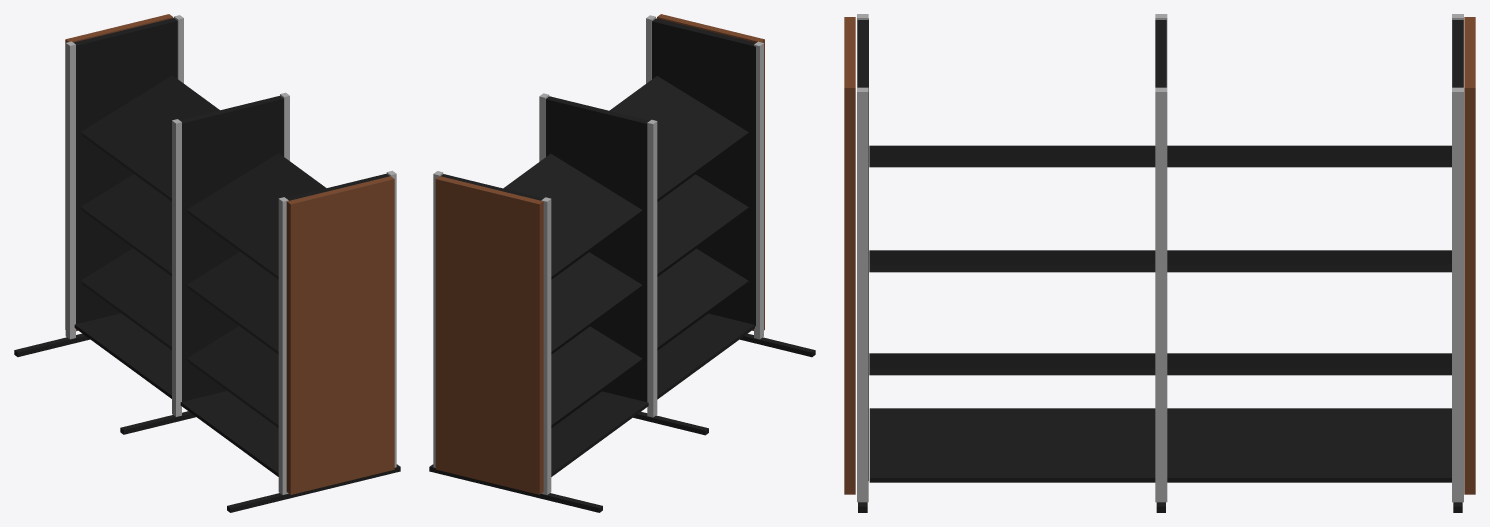
The model's file is new_0estante.fbx.
3 renders of one model, left to right at view 1: azimuth 30°, elevation 25°; view 2: azimuth 150°, elevation 25°; view 3: azimuth 270°, elevation 25°, orthographic. The views are drawn at different scales.
Parts seen in each view (by area): view 1: Cube.245; view 2: Cube.245; view 3: Cube.245.
Part boxes in pixels (x1=…): Cube.245: x1=14, y1=14, x2=400, y2=512; Cube.245: x1=429, y1=14, x2=815, y2=512; Cube.245: x1=844, y1=14, x2=1475, y2=512.
Bounding box in the file's own units: 74.67 × 125 × 171.
